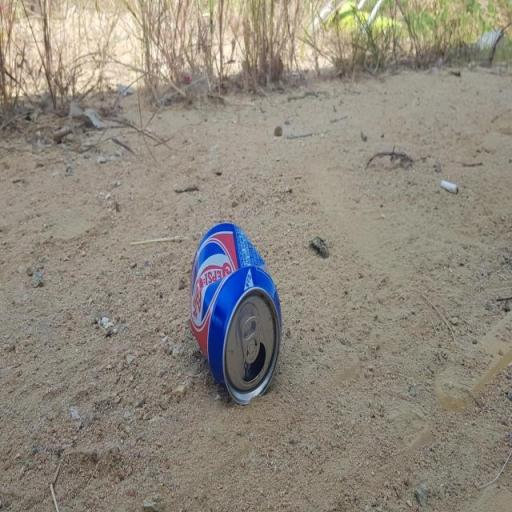metal: (170, 183, 307, 425)
